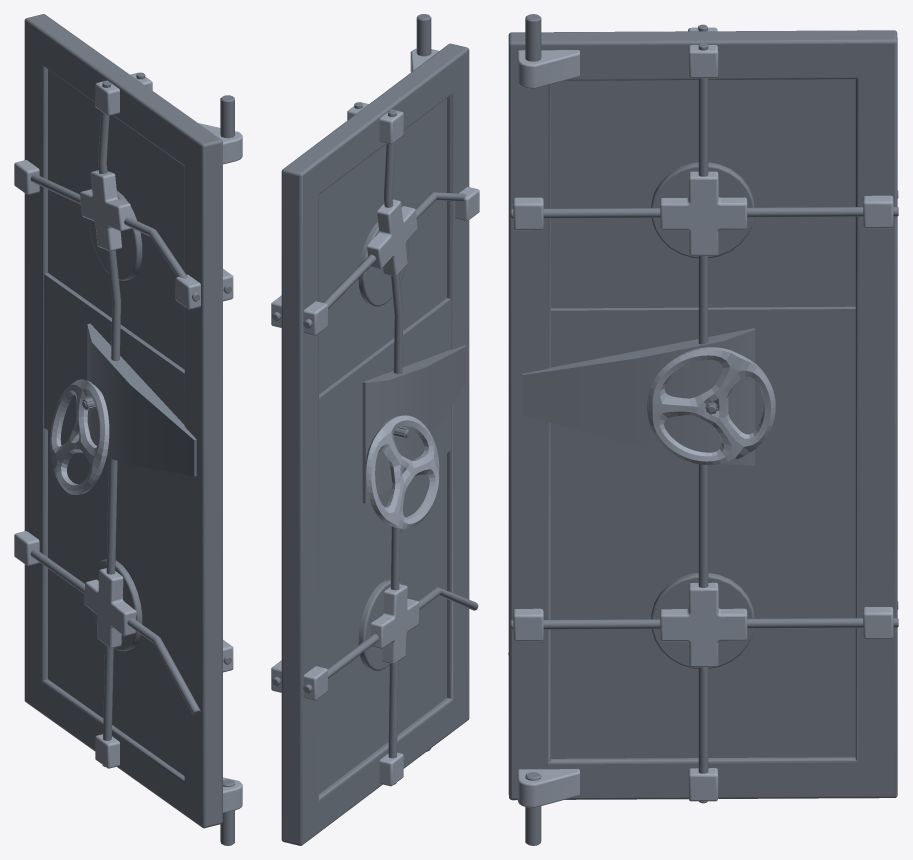
The model's file is door_001_factory-door-21-mb_001.fbx.
The picture shows the model from 3 angles, left to right: view 1: azimuth 30°, elevation 25°; view 2: azimuth 150°, elevation 25°; view 3: azimuth 270°, elevation 25°; orthographic projection. The views are drawn at different scales.
Parts seen in each view (by area): view 1: door.001.factory-door-21-mb.001; view 2: door.001.factory-door-21-mb.001; view 3: door.001.factory-door-21-mb.001.
Boxes of the visible parts, <box> form: door.001.factory-door-21-mb.001: <box>14,14,242,845</box>; door.001.factory-door-21-mb.001: <box>271,14,479,845</box>; door.001.factory-door-21-mb.001: <box>508,14,898,845</box>.
Size of the model in its own units: 0.1158 by 0.8938 by 0.3829.
